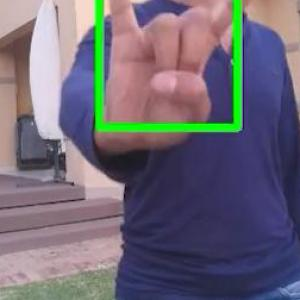takeoff-hand: (100, 0, 282, 130)
